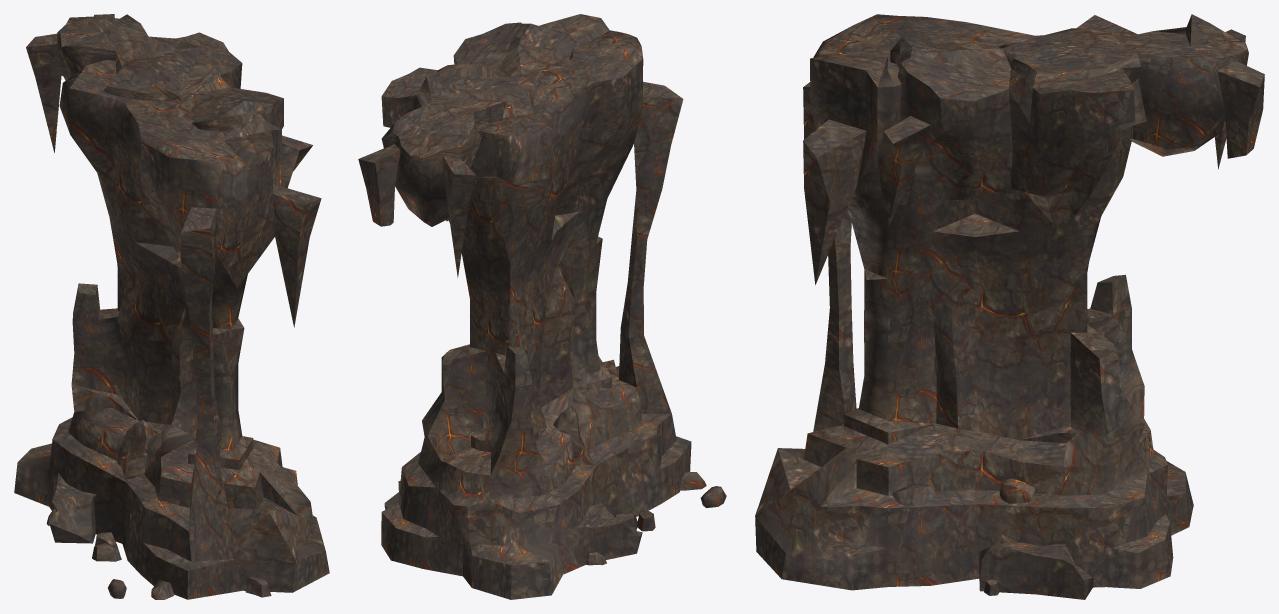
Rendered from S_Rock_Black015.FBX.
3 renders of one model, left to right at view 1: azimuth 30°, elevation 25°; view 2: azimuth 150°, elevation 25°; view 3: azimuth 270°, elevation 25°, orthographic. The views are drawn at different scales.
Parts seen in each view (by area): view 1: S_Rock_Black015; view 2: S_Rock_Black015; view 3: S_Rock_Black015.
Part boxes in pixels (<box>): S_Rock_Black015: <box>14,14,329,599</box>; S_Rock_Black015: <box>358,14,726,599</box>; S_Rock_Black015: <box>755,14,1264,599</box>.
Bounding box in the file's own units: 621 × 1030 × 1153.
